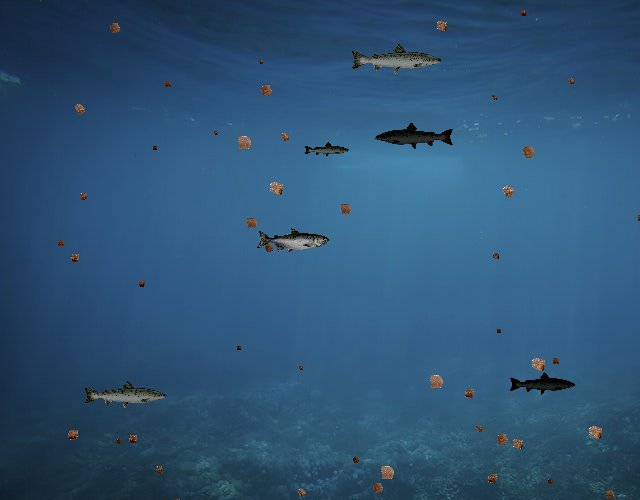Fish: (350, 42, 444, 76), (82, 379, 168, 410), (374, 122, 455, 151), (257, 227, 330, 253), (509, 372, 577, 396), (304, 141, 351, 158)
Pellet: (516, 139, 542, 165), (496, 179, 521, 204), (68, 98, 90, 120), (488, 249, 502, 263), (516, 6, 530, 20), (544, 475, 557, 488), (210, 128, 220, 138)
